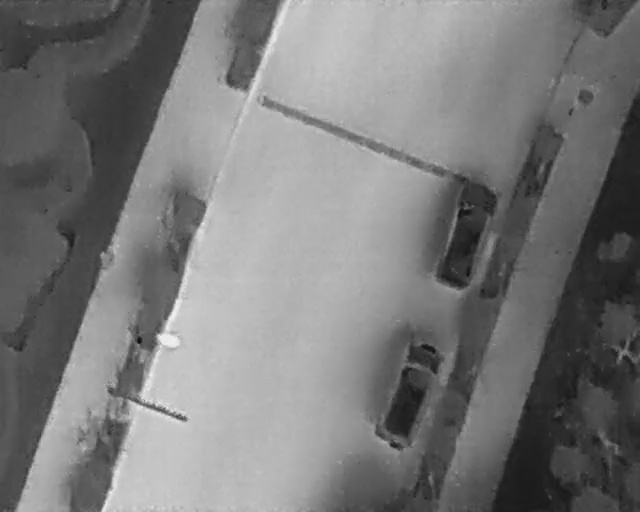Car: (366, 330, 453, 458), (426, 174, 506, 294)
